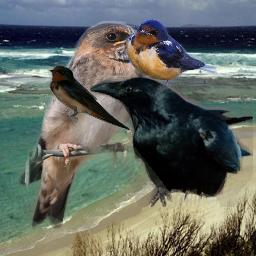Crow: (90, 77, 253, 207)
Swallow: (17, 20, 150, 229), (121, 18, 217, 92), (47, 64, 132, 132)
